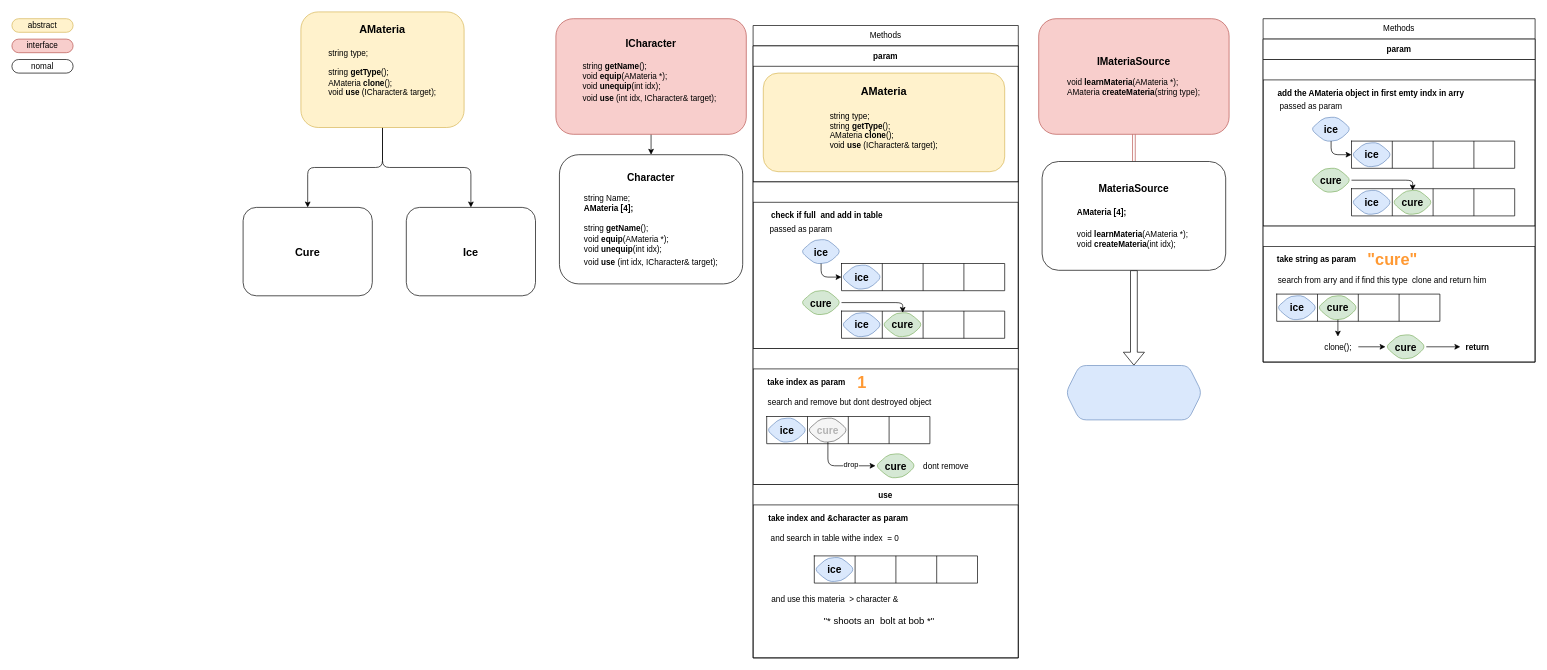
Image size: 1547x670. Some labels were removed from this diagram. The box of each missing label's shape, as (x1, y1, x2, y2) in pixels:
createMateria: (1262, 225, 1535, 362)
equip: (752, 181, 1018, 348)
learnMateria: (1262, 59, 1535, 226)
MateriaSource: (1065, 365, 1202, 420)
unequip: (752, 348, 1018, 485)
